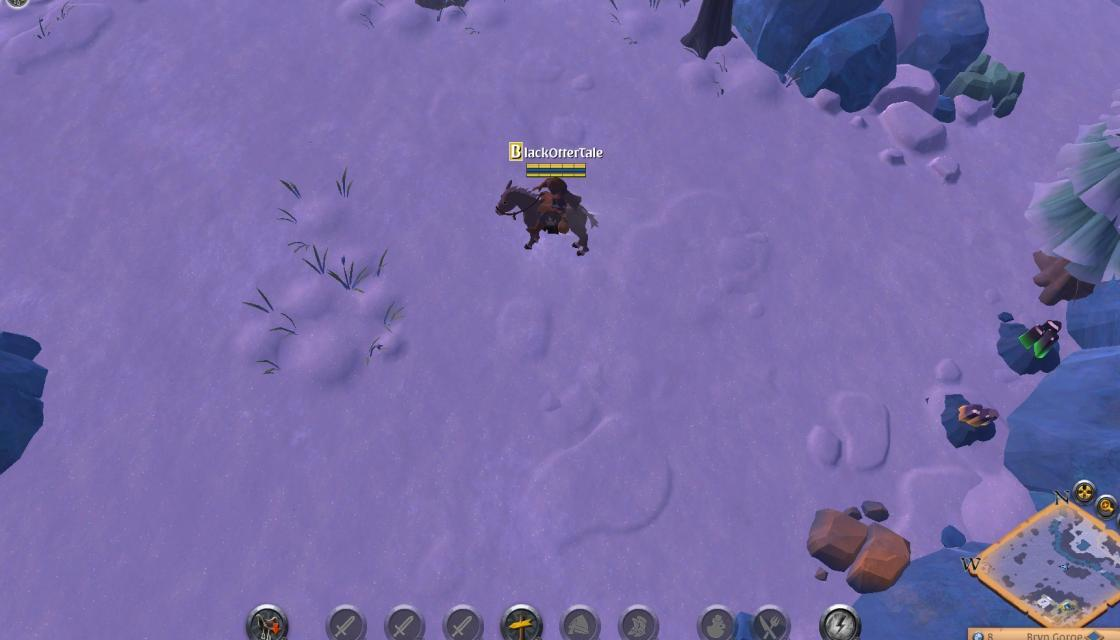copperore: (939, 392, 1004, 450)
limestone: (804, 498, 912, 598)
sandstone: (943, 47, 1032, 115)
tinore: (990, 310, 1068, 375)
